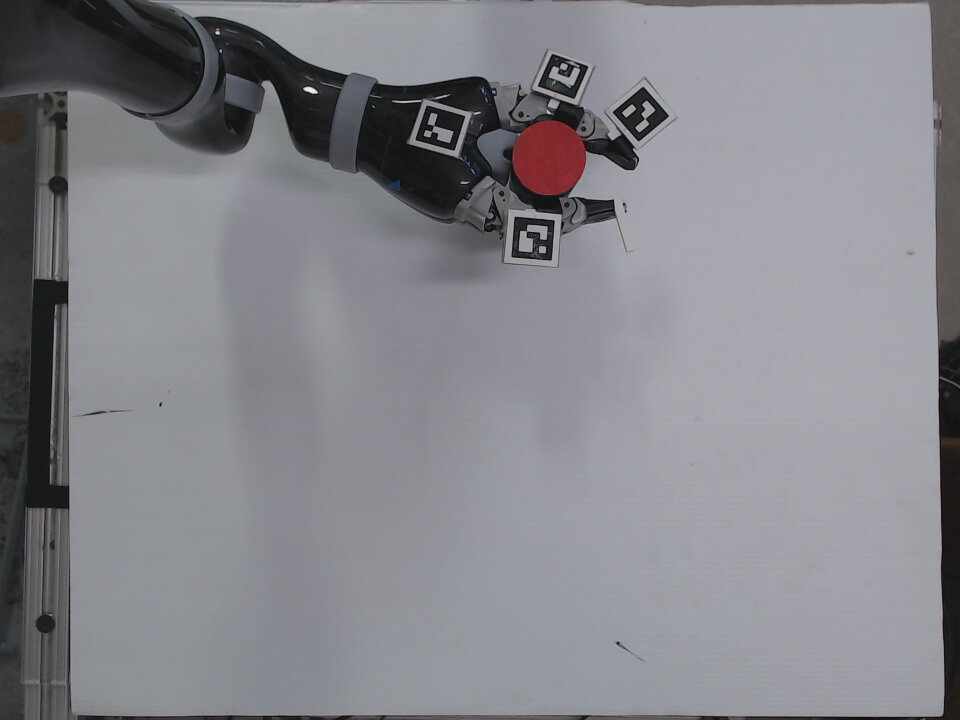cylinder: (507, 118, 591, 204)
